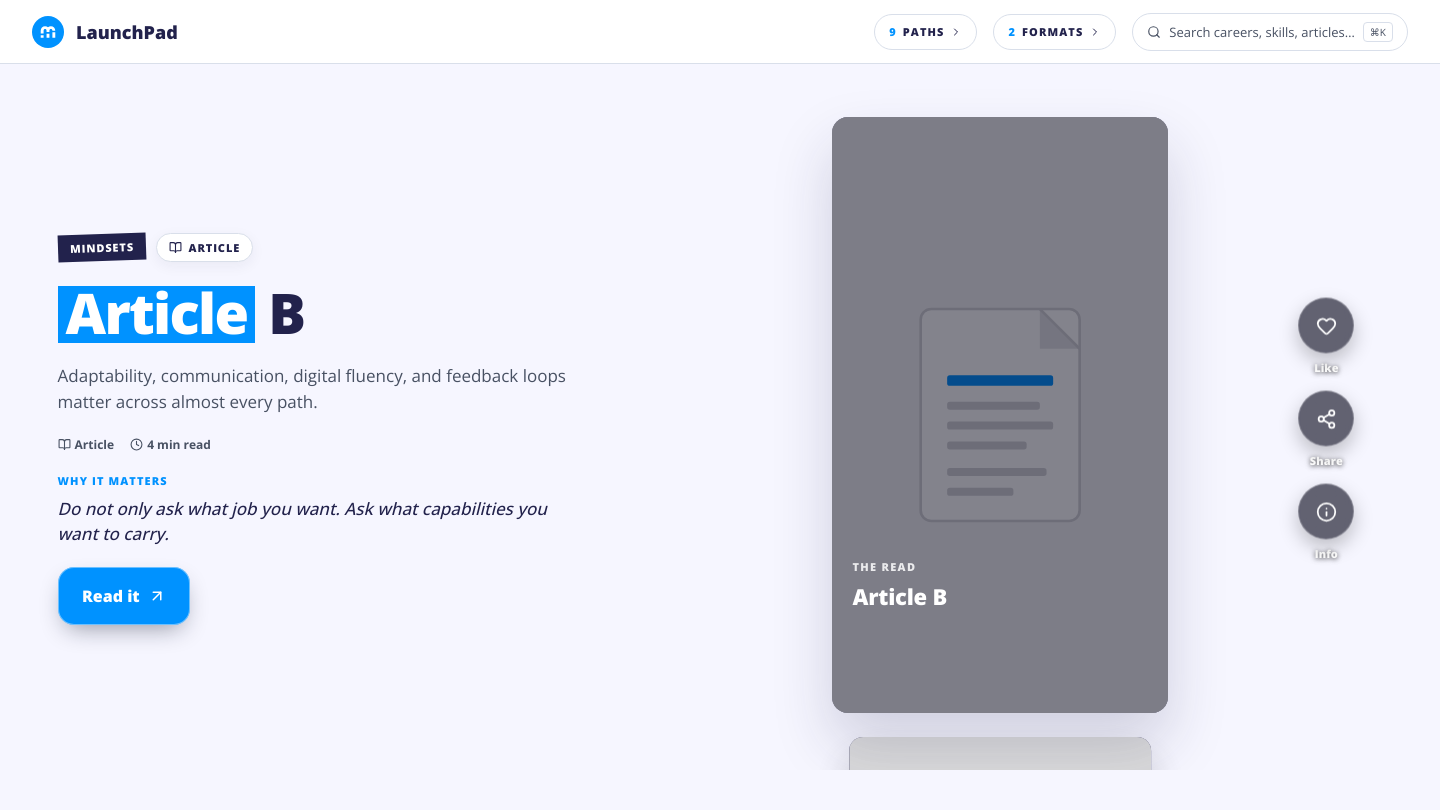
LaunchpadApp feed navigation › shows shuffled default search results
This screenshot has width=1440, height=810.
Click the button with aria-label "Open search": (1270, 32) [1132,12,1408,50]
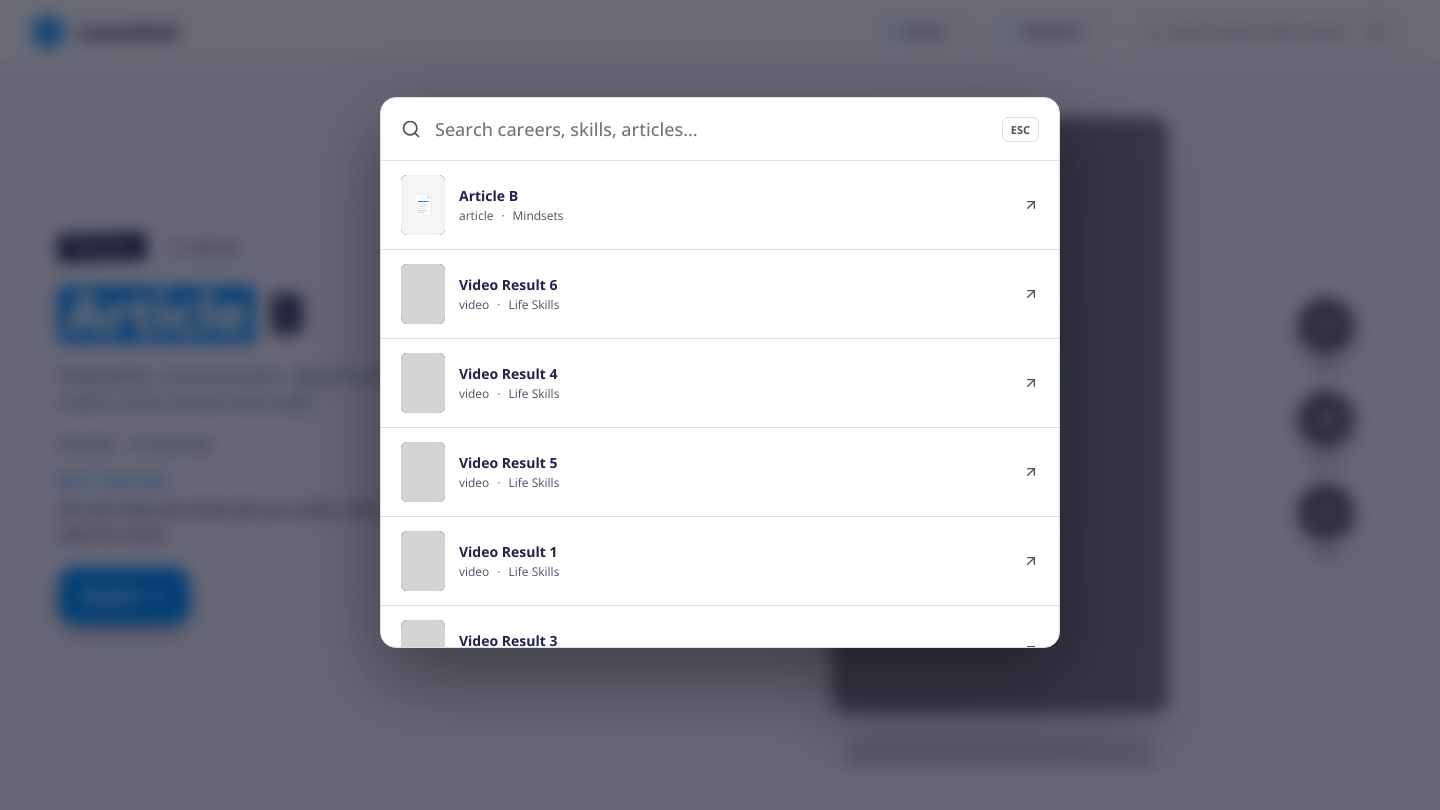
Now the number of buttons with test id "search-result" is 6
